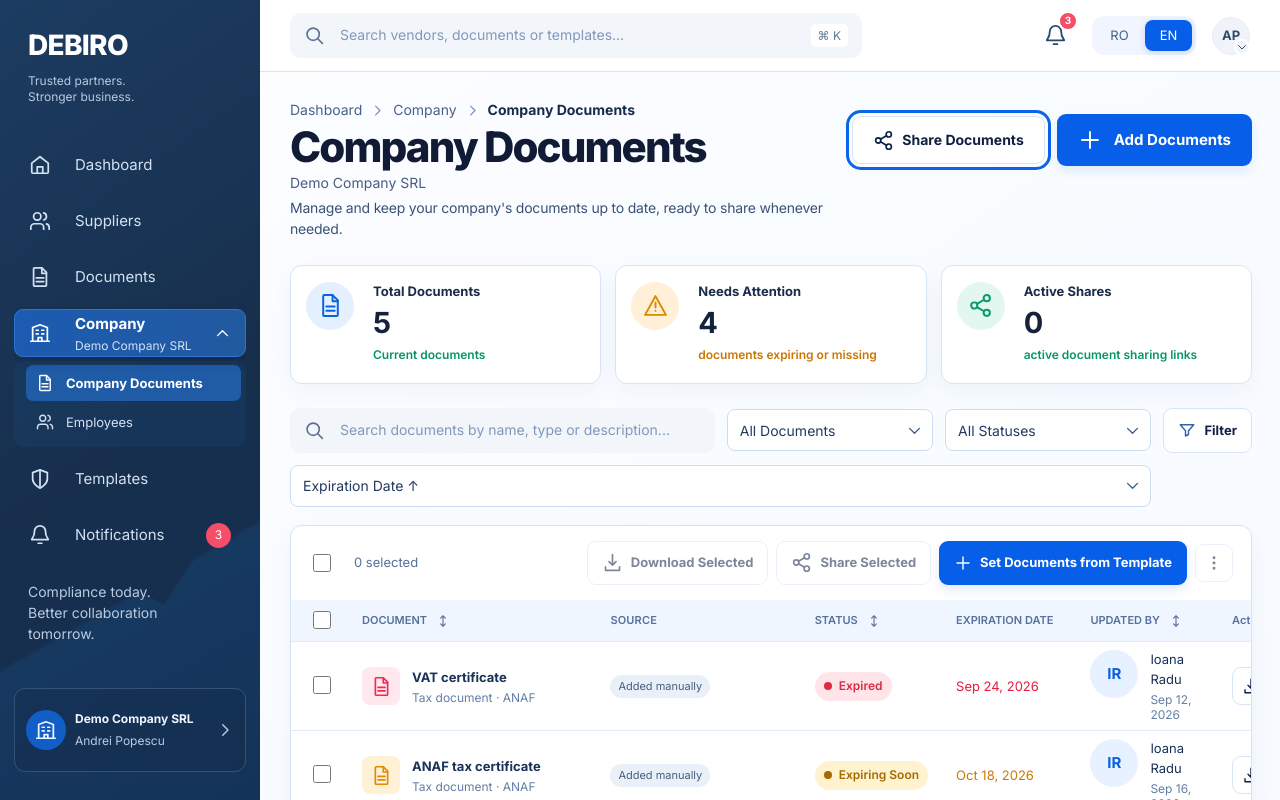
Test: Company Documents shared listing UI › renders derived metrics, truthful disabled files and sharing preparation in en
Check: the heading "Company Documents" is shown, box [290,121,706,172]
Check: the 1st text "Demo Company SRL" is shown, box [290,174,426,191]
Click the button "Share Documents".
click(949, 140)  # box [852,116,1045,164]
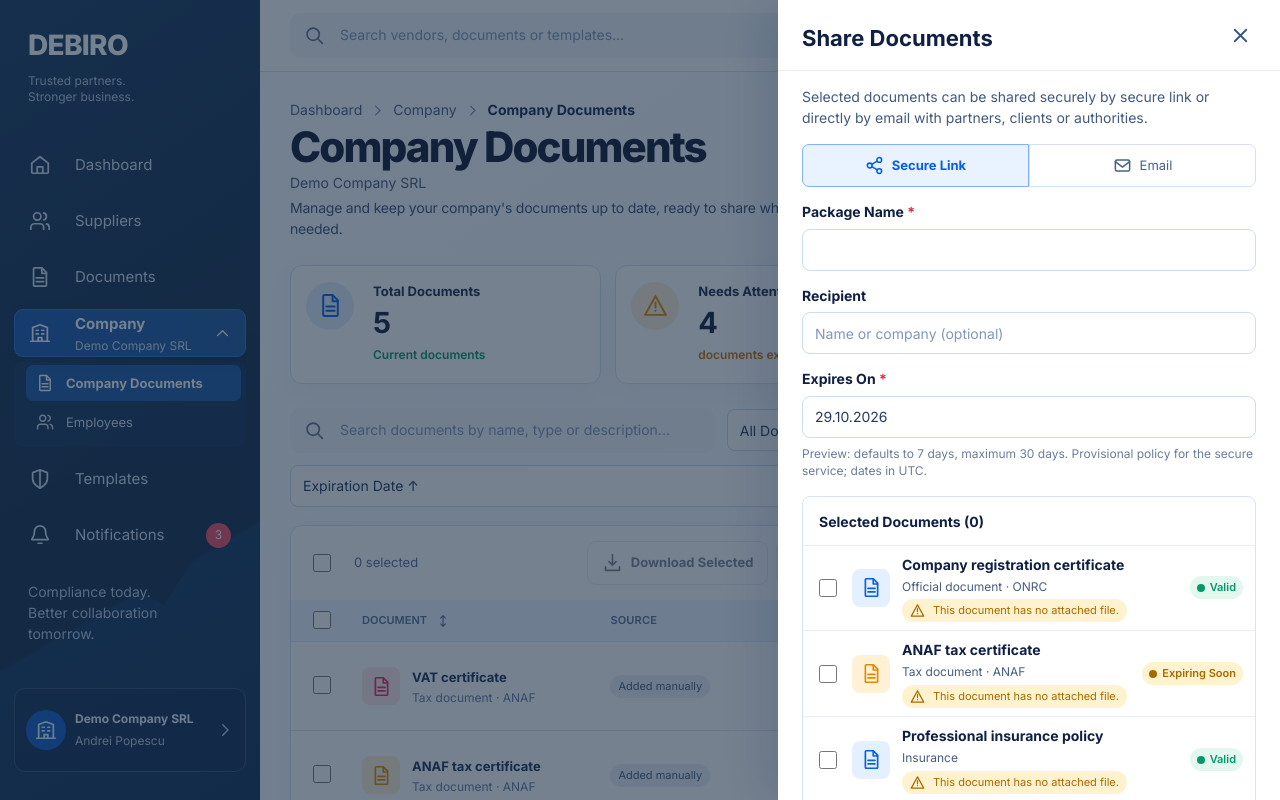
Check: the dialog is shown, box [778,0,1279,799]
Check: the text "This document has no attached file." is shown 6 times
Press Escape
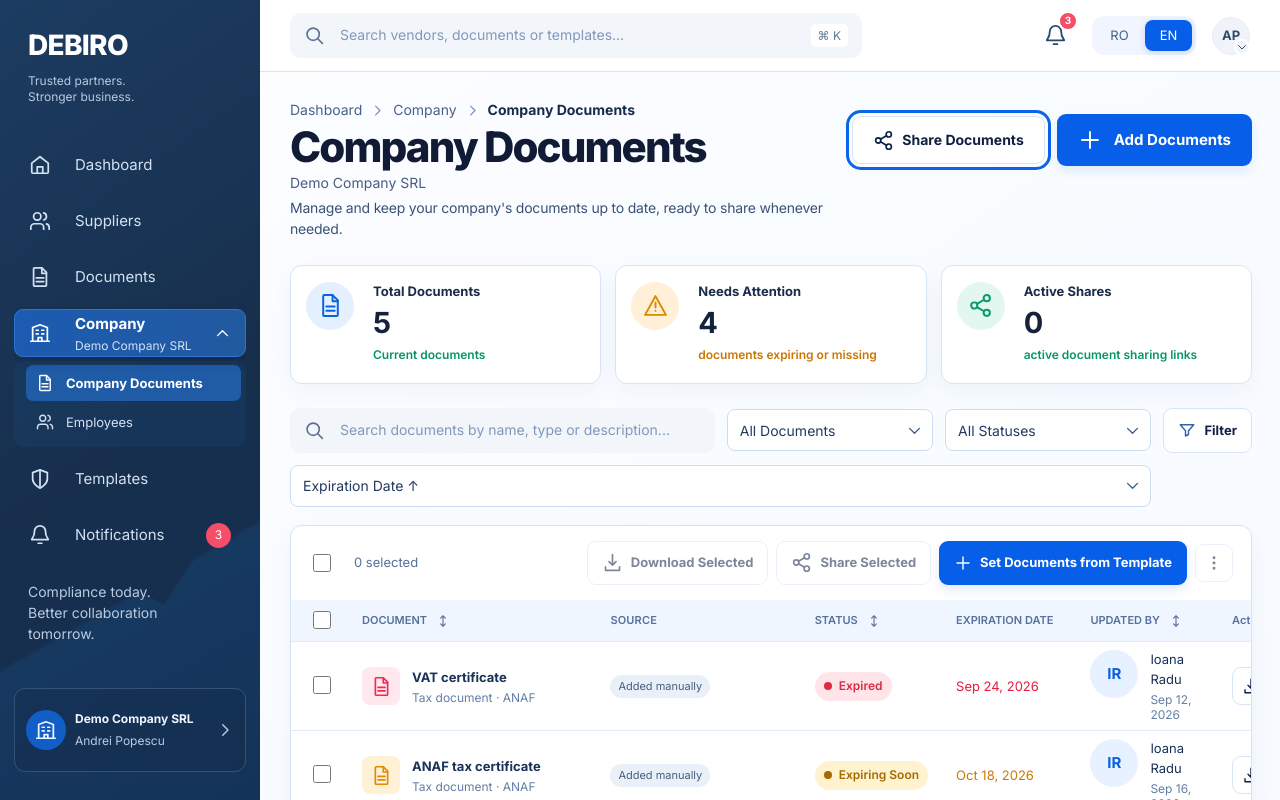
Check: the dialog is gone
Click the button named "Download VAT certificate".
click(1251, 686)  # box [1232,668,1270,706]
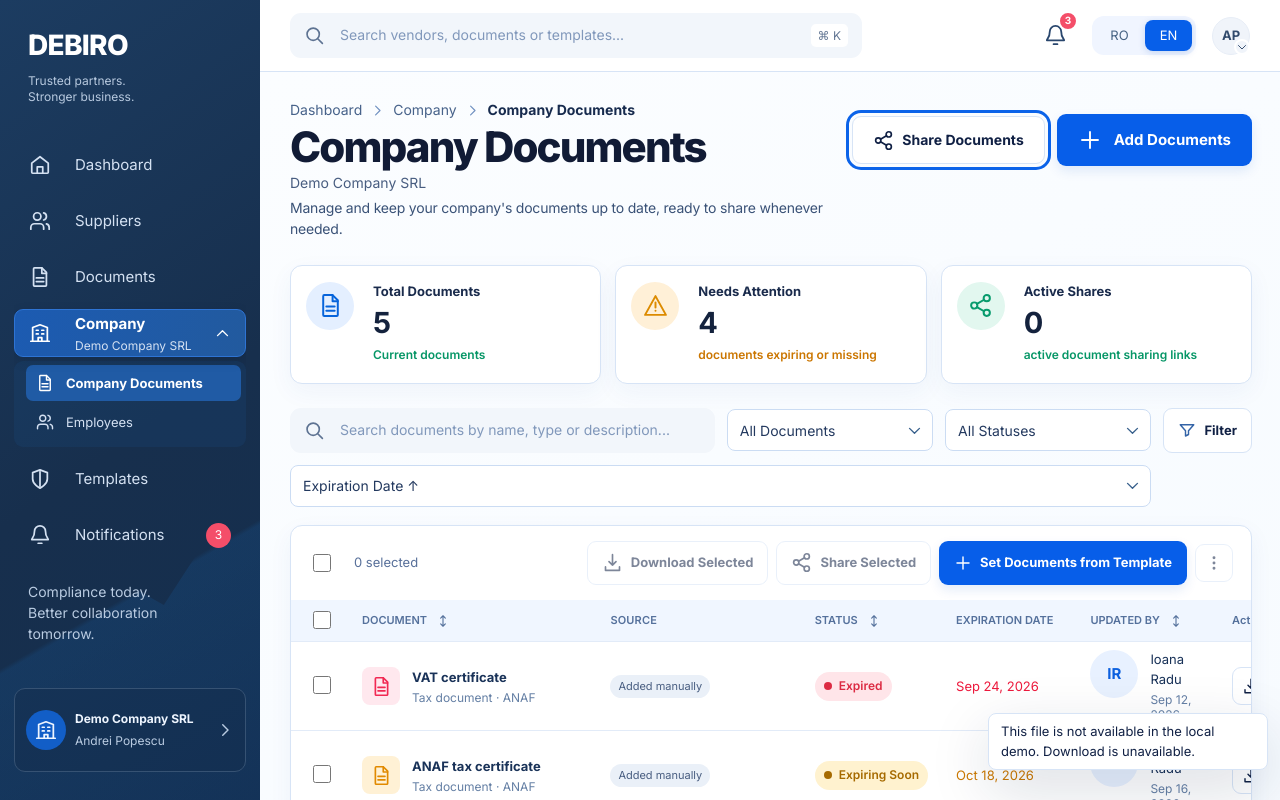
Check: the tooltip reads "This file is not available in the local demo. Download is unavailable.", box [1001,724,1214,759]
